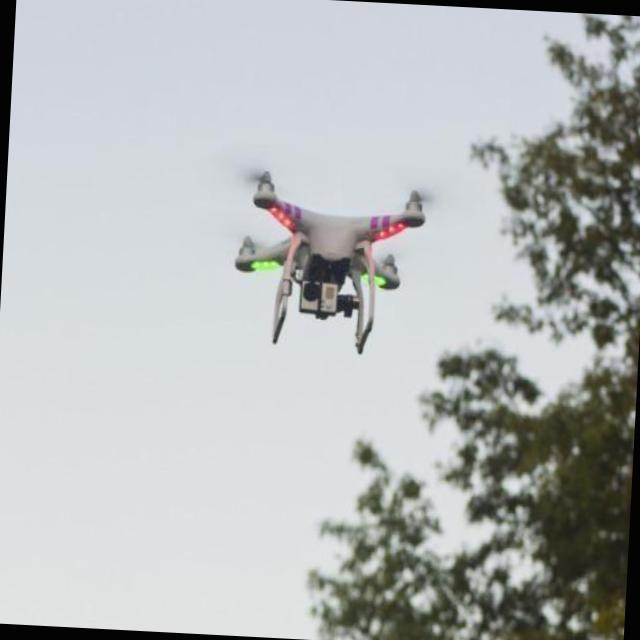drone: (227, 166, 432, 359)
